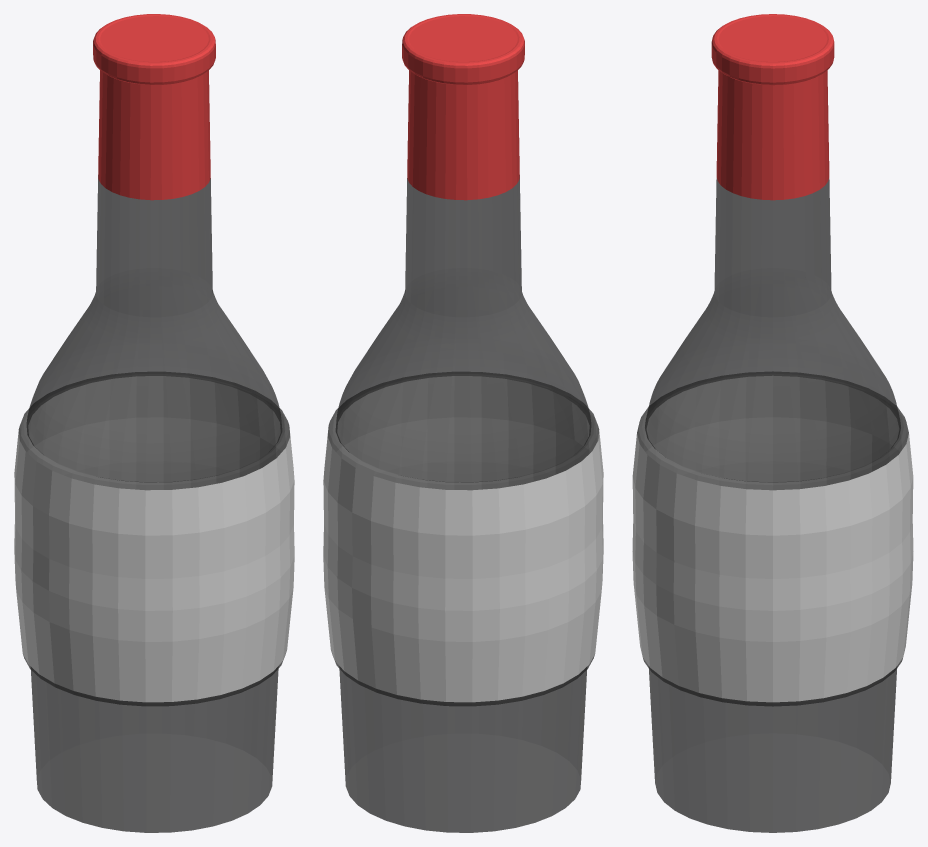
File: Botella.fbx
3 views of the same model, side by side, from view 1: azimuth 30°, elevation 25°; view 2: azimuth 150°, elevation 25°; view 3: azimuth 270°, elevation 25° (orthographic).
Parts seen in each view (by area): view 1: Cylinder; view 2: Cylinder; view 3: Cylinder.
Part boxes in pixels (x1=…): Cylinder: x1=14, y1=14, x2=294, y2=832; Cylinder: x1=323, y1=14, x2=603, y2=832; Cylinder: x1=632, y1=14, x2=913, y2=832.
Bounding box in the file's own units: 71.62 × 209 × 71.62.
